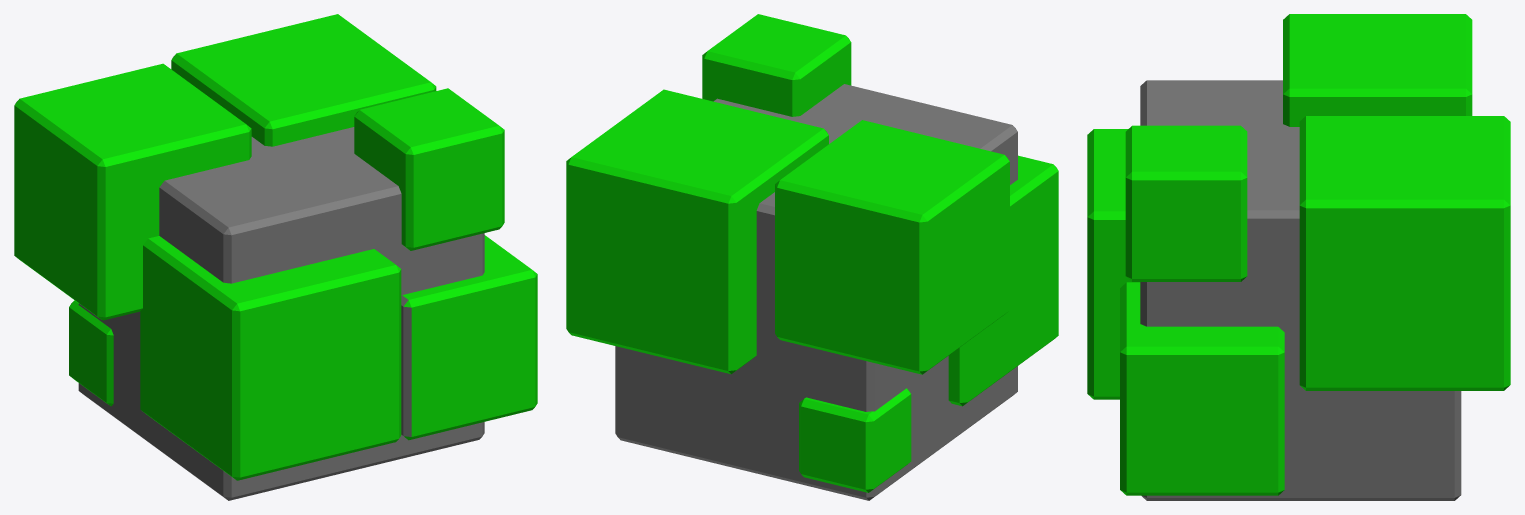
Rendered from chunk.fbx.
3 renders of one model, left to right at view 1: azimuth 30°, elevation 25°; view 2: azimuth 150°, elevation 25°; view 3: azimuth 270°, elevation 25°, orthographic. The views are drawn at different scales.
Visible parts, largest first — view 1: Cube; view 2: Cube; view 3: Cube.
Boxes of the visible parts, x1,y1,x2,y2 form: Cube: (14, 14, 537, 500); Cube: (566, 14, 1058, 500); Cube: (1087, 14, 1510, 500).
Size of the model in its own units: 69.57 by 57.78 by 65.94.
